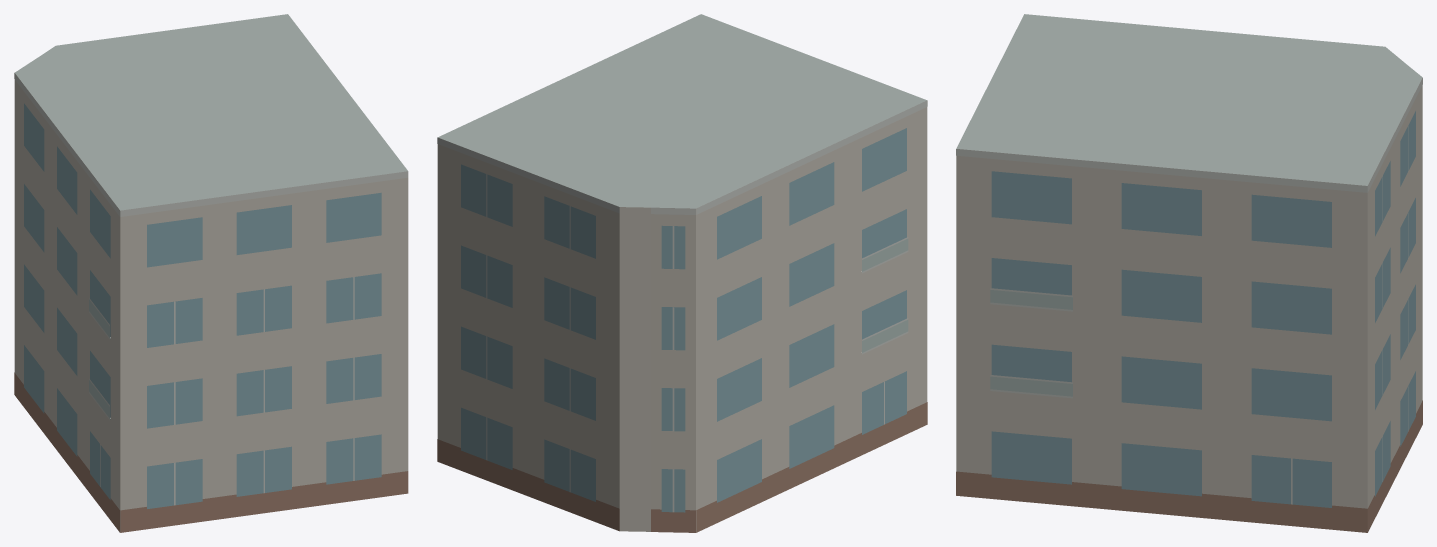
The model's file is residential-13a4a1c3-dfe9-4ec1-b51c-63c16797800c.glb.
3 renders of one model, left to right at view 1: azimuth 30°, elevation 25°; view 2: azimuth 150°, elevation 25°; view 3: azimuth 270°, elevation 25°, orthographic. The views are drawn at different scales.
Visible parts, largest first — view 1: residential-13a4a1c3-dfe9-4ec1-b51c-63c16797800c.tmp; view 2: residential-13a4a1c3-dfe9-4ec1-b51c-63c16797800c.tmp; view 3: residential-13a4a1c3-dfe9-4ec1-b51c-63c16797800c.tmp.
Part boxes in pixels (box(x1,y1,x2,y2)): residential-13a4a1c3-dfe9-4ec1-b51c-63c16797800c.tmp: box(14, 14, 408, 532); residential-13a4a1c3-dfe9-4ec1-b51c-63c16797800c.tmp: box(437, 14, 927, 532); residential-13a4a1c3-dfe9-4ec1-b51c-63c16797800c.tmp: box(956, 14, 1422, 532).
Bounding box in the file's own units: 12.98 × 12.2 × 14.88.
